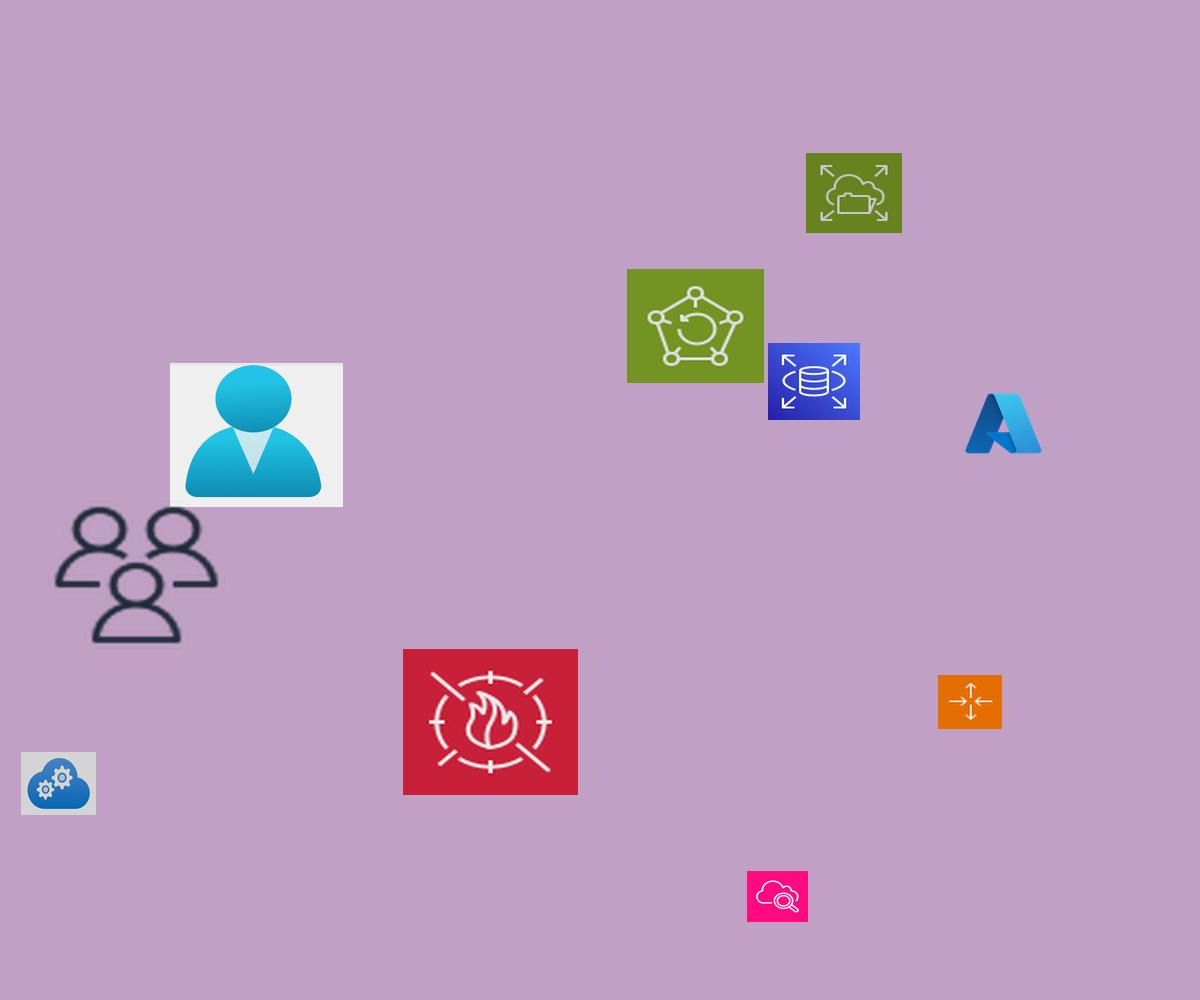AWS-Backup: (627, 269, 764, 383)
AWS-CloudWatch: (747, 871, 808, 922)
AWS-EFS: (806, 153, 902, 233)
AWS-RDS: (768, 343, 860, 420)
AWS-Res_Users: (48, 501, 225, 649)
AWS-Scaling-group: (938, 675, 1002, 729)
AWS-WAF: (403, 649, 578, 795)
Azure_cloud_services: (21, 752, 96, 815)
Azure_services: (962, 389, 1045, 458)
Azure_users: (170, 363, 343, 507)
